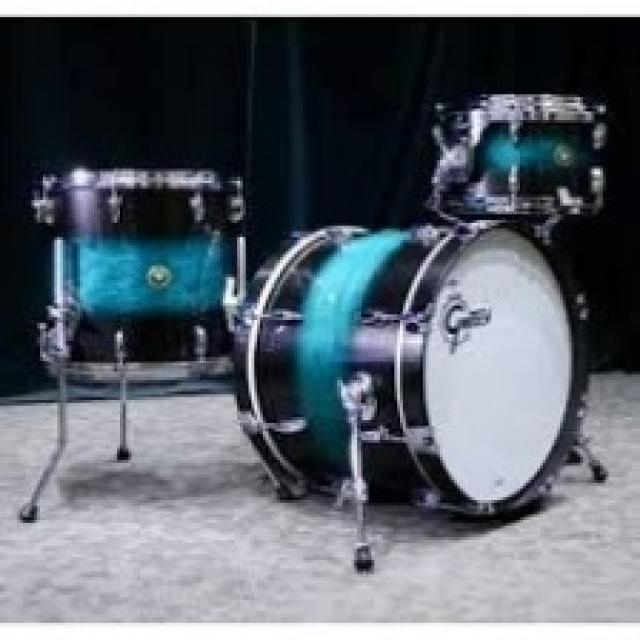drums: (30, 92, 611, 525)
